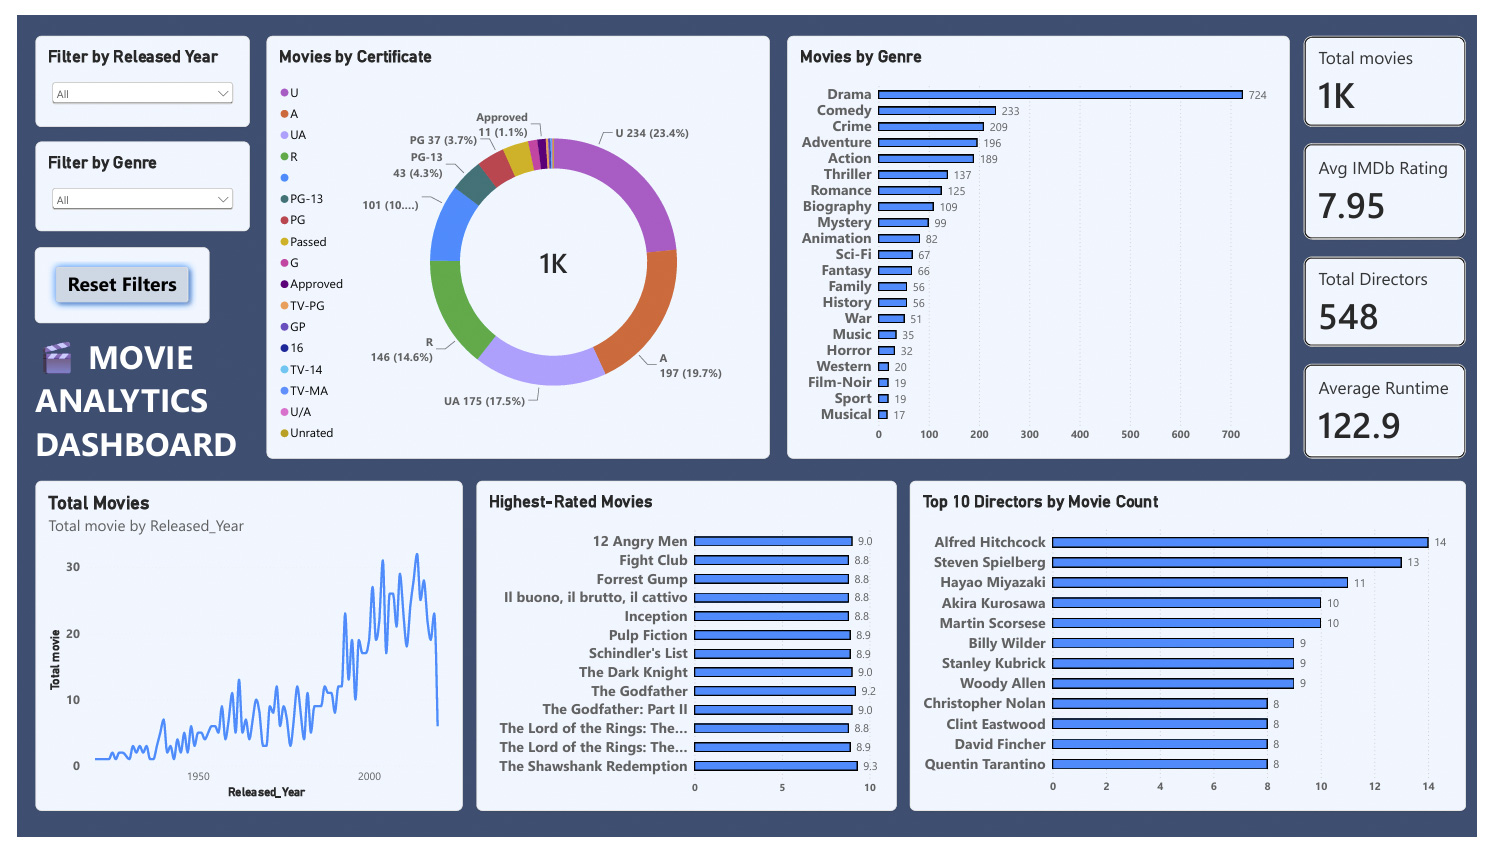

Layout of this report page (visuals, bound fields, positions):
{"tool":"powerbi","page":{"name":"Page 1","canvas":[1920,1080],"ordinal":0},"visuals":[{"type":"cardVisual","fields":{"Data":["movies.Total movie"]},"box":[1692,27.1,213.5,119.4],"z":0},{"type":"cardVisual","fields":{"Data":["movies.Average IMDb Rating"]},"box":[1692,168.3,213.5,126.7],"z":1000},{"type":"cardVisual","fields":{"Data":["movies.Total Directors"]},"box":[1692,316.7,213.5,119.4],"z":2000},{"type":"cardVisual","fields":{"Data":["movies.Average Runtime"]},"box":[1692,457.8,213.5,124.9],"z":3000},{"type":"clusteredBarChart","title":"Movies by Genre ","fields":{"Category":["movieGenres.Genre"],"Y":["movieGenres.Movies by Genre"]},"box":[1013.4,27.1,660.5,555.6],"z":4000},{"type":"lineChart","title":"Total Movies","fields":{"Category":["movies.Released_Year"],"Y":["movies.Total movie"]},"box":[23.5,611.7,562.8,434.3],"z":5000},{"type":"clusteredBarChart","title":"Highest-Rated Movies","fields":{"Category":["movies.Series_Title"],"Y":["Avg(movies.IMDB_Rating)"]},"box":[603.5,611.7,553.8,434.3],"z":6000},{"type":"donutChart","title":"Movies by Certificate","fields":{"Category":["movies.Certificate"],"Y":["CountNonNull(movies.Series_Title)"]},"box":[327.5,27.1,662.3,555.6],"z":7000},{"type":"clusteredBarChart","title":"Top 10 Directors by Movie Count","fields":{"Category":["movies.Director"],"Y":["CountNonNull(movies.Series_Title)"]},"box":[1174.5,611.7,731.1,434.3],"z":8000},{"type":"slicer","title":"Filter by Released Year","fields":{"Values":["movies.Released_Year"]},"box":[23.5,27.1,282.3,119.4],"z":9000},{"type":"slicer","title":"Filter by Genre","fields":{"Values":["movieGenres.Genre"]},"box":[23.5,166.5,282.3,117.6],"z":10000},{"type":"actionButton","box":[23,304.7,229.6,100.2],"z":11000},{"type":"textbox","box":[23,419.5,281.7,177.4],"z":11001}]}

Visuals, with their boxes in screenshot pixels (x1, y1, x2, y2), scaled from the page's 1920x1080 canvas onto the 1490x849 screenshot:
cardVisual - movies.Total movie: x1=1313, y1=21, x2=1479, y2=115
cardVisual - movies.Average IMDb Rating: x1=1313, y1=132, x2=1479, y2=232
cardVisual - movies.Total Directors: x1=1313, y1=249, x2=1479, y2=343
cardVisual - movies.Average Runtime: x1=1313, y1=360, x2=1479, y2=458
"Movies by Genre " clusteredBarChart: x1=786, y1=21, x2=1299, y2=458
"Total Movies" lineChart: x1=18, y1=481, x2=455, y2=822
"Highest-Rated Movies" clusteredBarChart: x1=468, y1=481, x2=898, y2=822
"Movies by Certificate" donutChart: x1=254, y1=21, x2=768, y2=458
"Top 10 Directors by Movie Count" clusteredBarChart: x1=911, y1=481, x2=1479, y2=822
"Filter by Released Year" slicer: x1=18, y1=21, x2=237, y2=115
"Filter by Genre" slicer: x1=18, y1=131, x2=237, y2=223
actionButton: x1=18, y1=240, x2=196, y2=318
textbox: x1=18, y1=330, x2=236, y2=469
